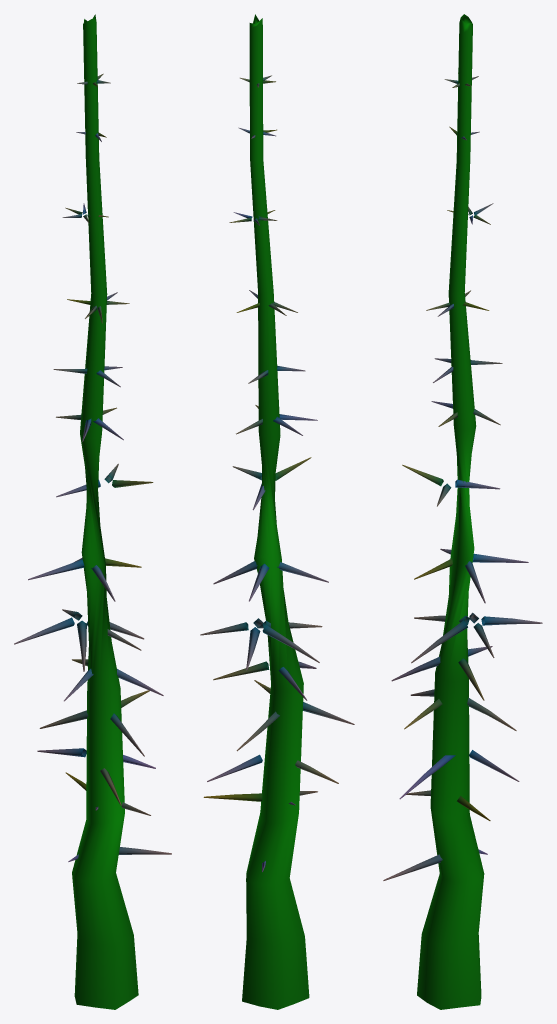
Rendered from snag_b.glb.
3 views of the same model, side by side, from view 1: azimuth 90°, elevation 25°; view 2: azimuth 150°, elevation 25°; view 3: azimuth 270°, elevation 25° (orthographic).
Visible parts, largest first — view 1: LOD0; view 2: LOD0; view 3: LOD0.
Boxes of the visible parts, x1,y1,x2,y2 form: LOD0: (14, 14, 171, 1009); LOD0: (200, 14, 354, 1009); LOD0: (383, 14, 542, 1009).
Size of what is drawn, in the model's own units: 1.07 by 8.88 by 1.3.
